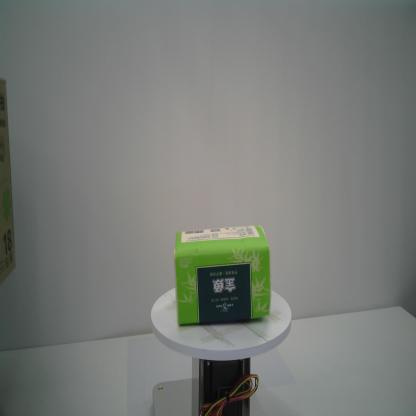Tissue: (172, 222, 274, 327)
